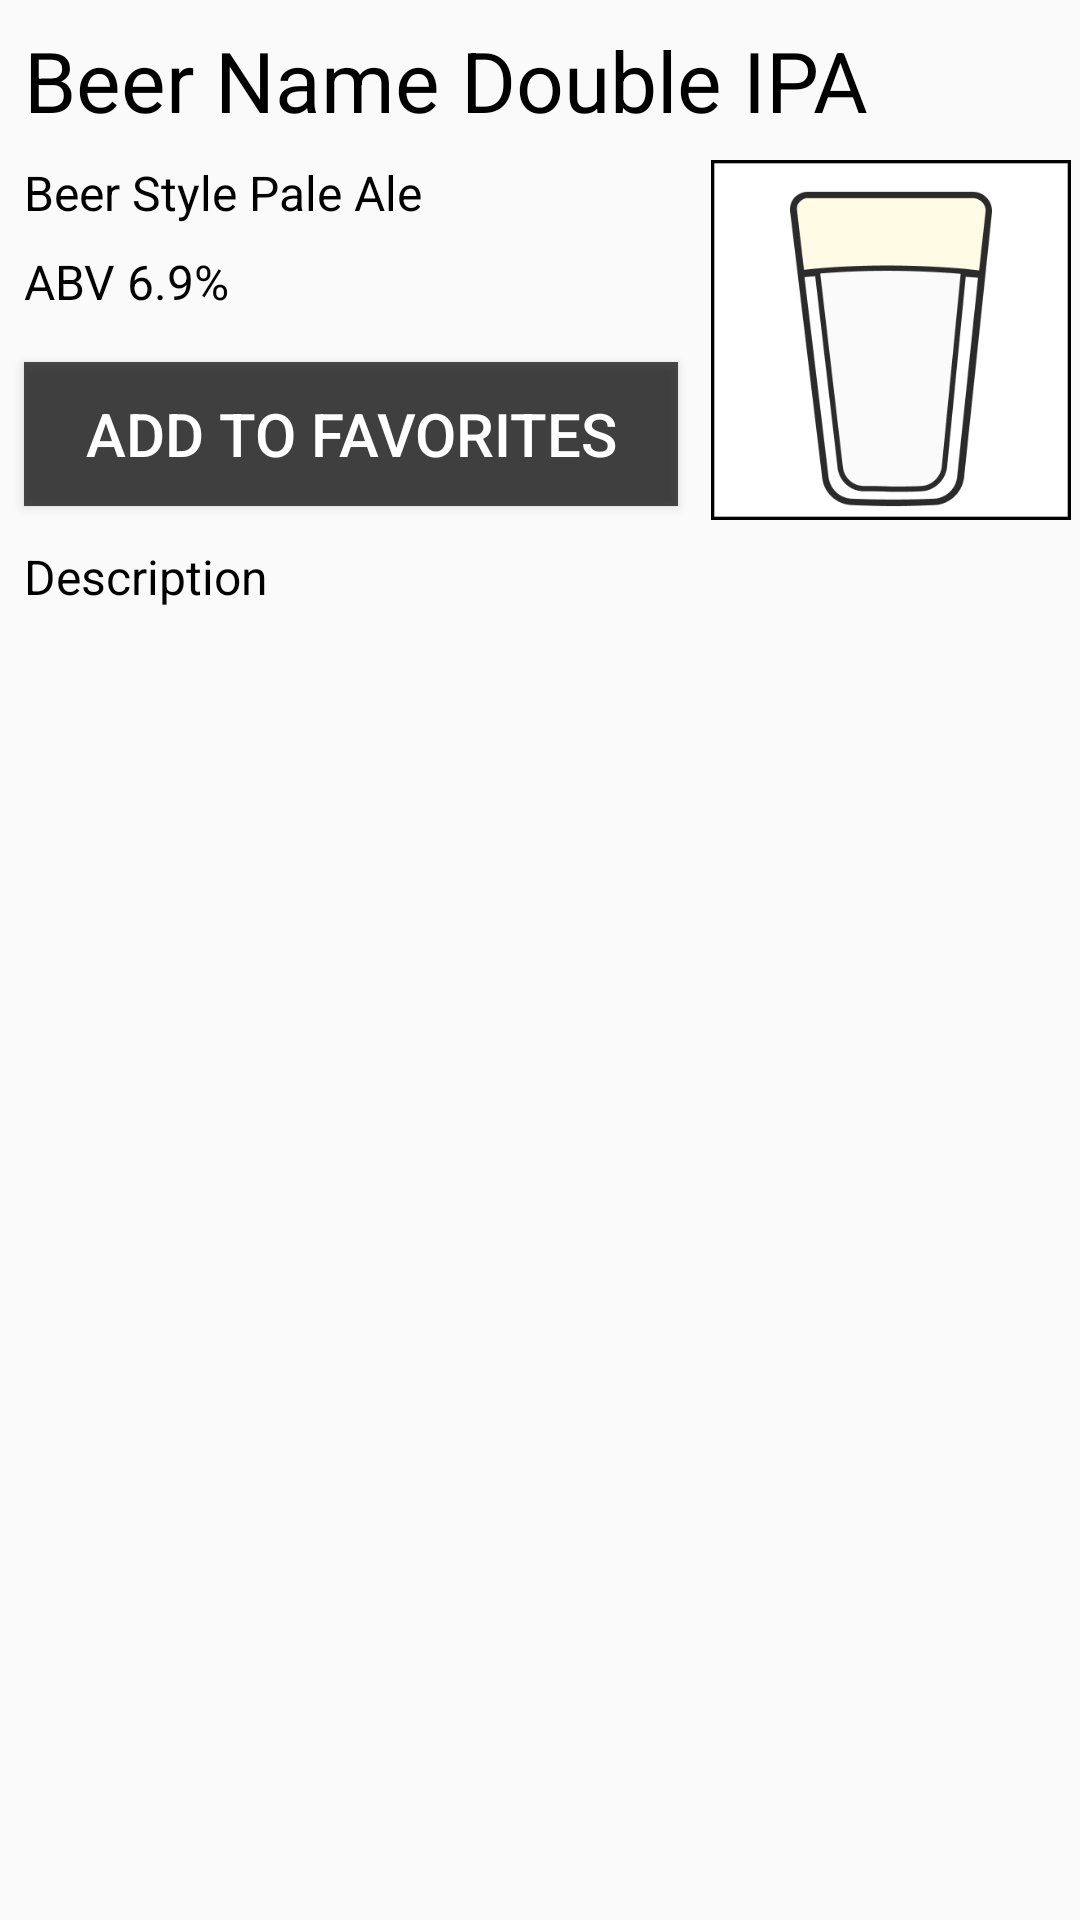

Named icons in this screenshot (1080px x 1920px) and their bounding boxes, [x1, y1, x2, y2]:
glass: [711, 160, 1071, 520]
